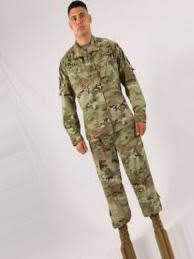uniform: (55, 11, 168, 224)
